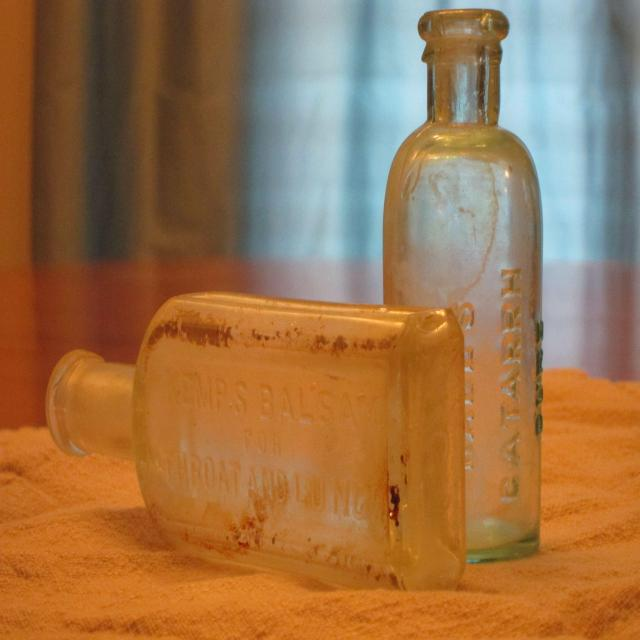non-organic waste: (34, 286, 474, 605)
